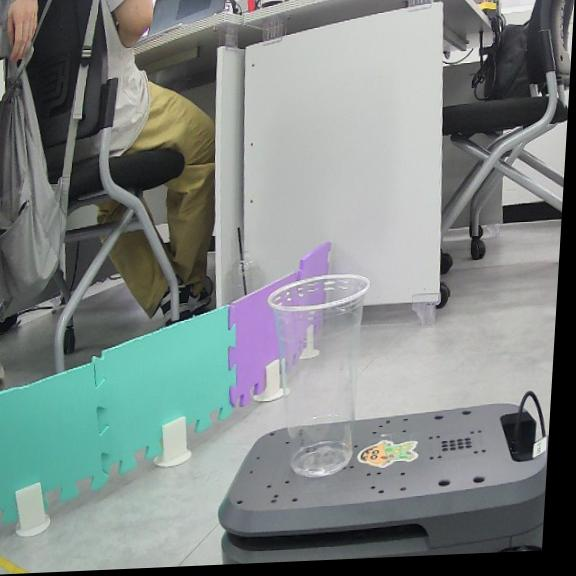Plastik: (268, 274, 369, 476)
